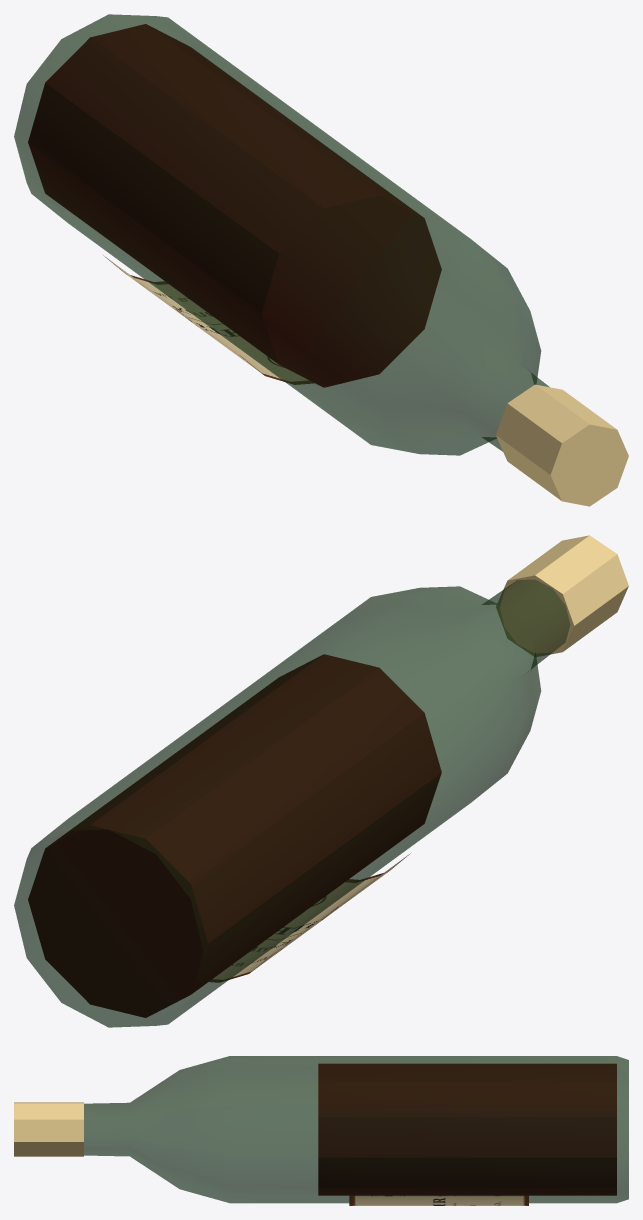
File: bottle_wine_2_tilt90_0.glb
3 views of the same model, one above another, from view 1: azimuth 30°, elevation 25°; view 2: azimuth 150°, elevation 25°; view 3: azimuth 270°, elevation 25° (orthographic). The views are drawn at different scales.
Visible parts, largest first — view 1: Bottle, Drink, Cap, Label; view 2: Bottle, Drink, Cap, Label; view 3: Bottle, Drink, Cap, Label.
Part boxes in pixels (<box>): Bottle: <box>14,14,549,455</box>; Drink: <box>28,24,441,387</box>; Cap: <box>496,384,628,506</box>; Label: <box>103,255,313,384</box>; Bottle: <box>14,580,569,1027</box>; Drink: <box>28,654,441,1017</box>; Cap: <box>496,535,628,656</box>; Label: <box>209,853,410,982</box>; Bottle: <box>84,1056,628,1203</box>; Drink: <box>318,1063,616,1195</box>; Cap: <box>14,1102,83,1156</box>; Label: <box>349,1196,528,1205</box>.
Size of the model in its own units: 0.074 by 0.0755 by 0.308.
Materials: 4 (3 with a texture image).
